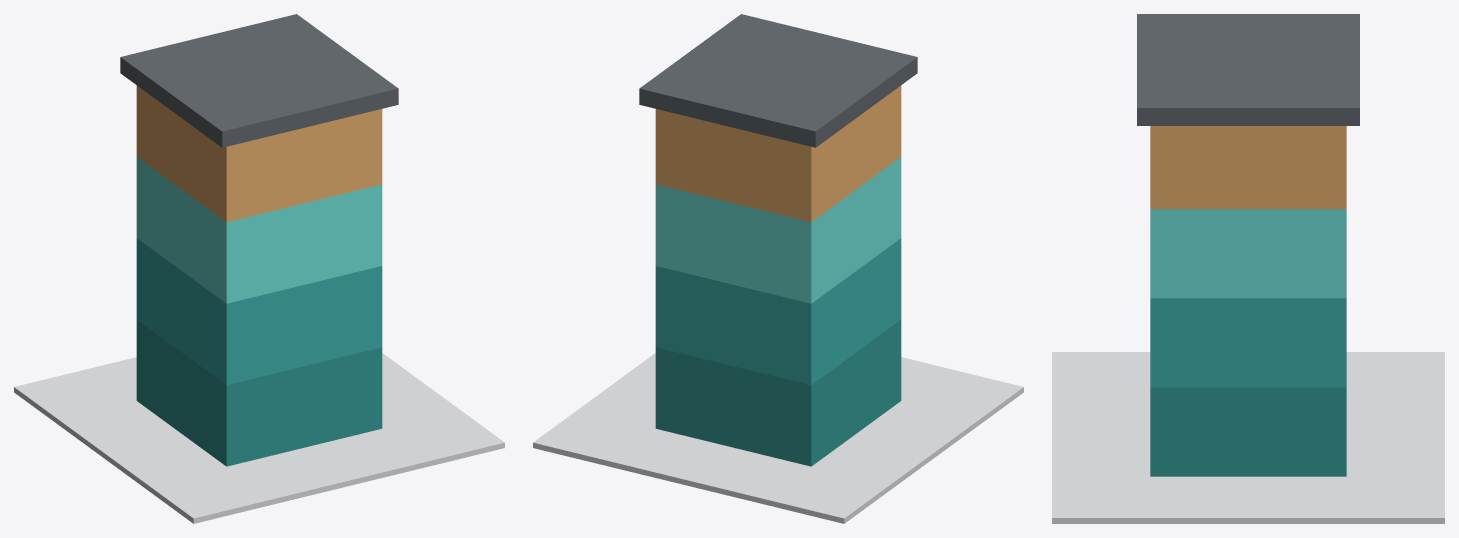
The model's file is sample-building.glb.
3 views of the same model, side by side, from view 1: azimuth 30°, elevation 25°; view 2: azimuth 150°, elevation 25°; view 3: azimuth 270°, elevation 25° (orthographic). The views are drawn at different scales.
Parts seen in each view (by area): view 1: BimAzimSampleBuilding; view 2: BimAzimSampleBuilding; view 3: BimAzimSampleBuilding.
Part boxes in pixels (x1,y1,x2,y2): BimAzimSampleBuilding: [14, 14, 504, 523]; BimAzimSampleBuilding: [533, 14, 1023, 523]; BimAzimSampleBuilding: [1052, 14, 1444, 523].
Bounding box in the file's own units: 12 × 12.8 × 12.
